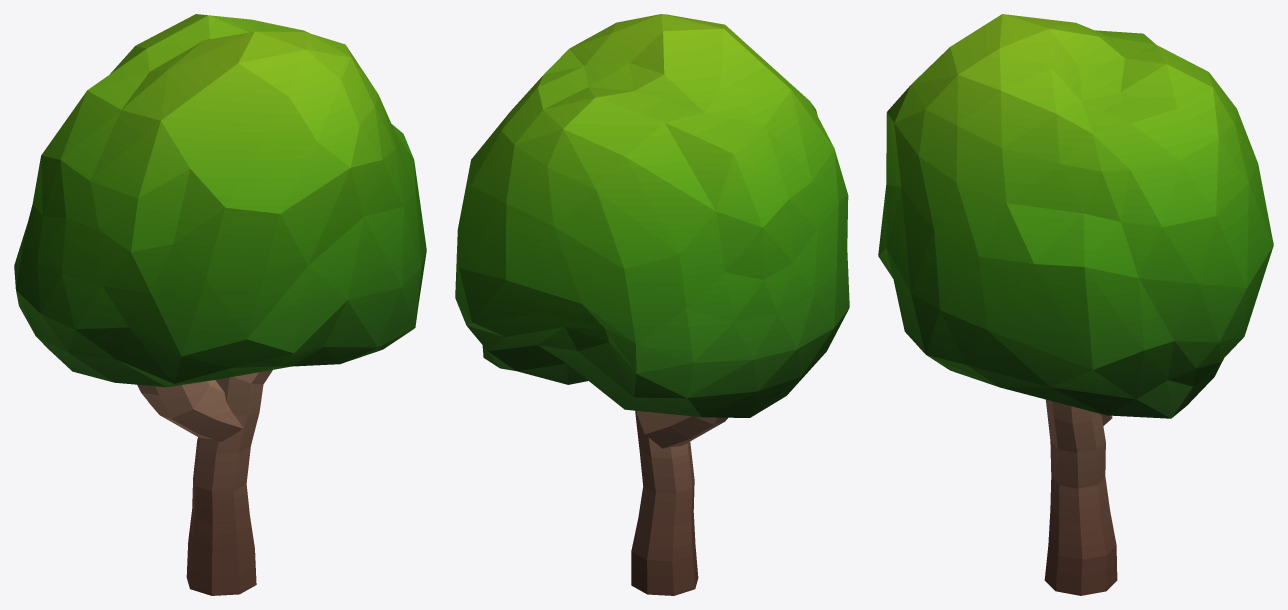
Rendered from Arvore1.fbx.
3 renders of one model, left to right at view 1: azimuth 30°, elevation 25°; view 2: azimuth 150°, elevation 25°; view 3: azimuth 270°, elevation 25°, orthographic. The views are drawn at different scales.
Visible parts, largest first — view 1: Arvore3; view 2: Arvore3; view 3: Arvore3.
Part boxes in pixels (bbox=[...]): Arvore3: bbox=[14, 14, 426, 595]; Arvore3: bbox=[455, 14, 849, 595]; Arvore3: bbox=[878, 14, 1273, 595].
Bounding box in the file's own units: 1340 × 1916 × 1226.
